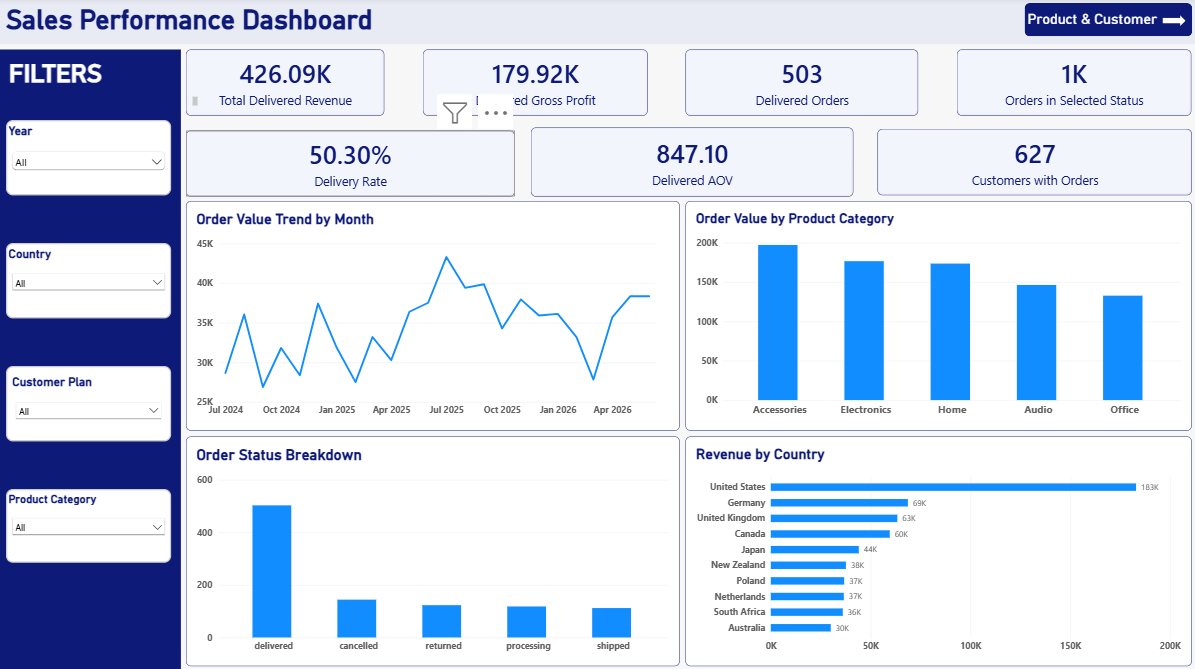

Layout of this report page (visuals, bound fields, positions):
{"tool":"powerbi","page":{"name":"Sales Overview","canvas":[1920,1080],"ordinal":0},"visuals":[{"type":"shape","box":[0,0,1920,75],"z":0},{"type":"cardVisual","fields":{"Data":["orders.Delivered Revenue"]},"box":[300,82.5,315,105],"z":1000},{"type":"cardVisual","fields":{"Data":["orders.Delivered Profit"]},"box":[676.7,82.5,357.5,105],"z":2000},{"type":"cardVisual","fields":{"Data":["orders.Total orders"]},"box":[1527.5,82.5,372.5,105],"z":3000},{"type":"cardVisual","fields":{"Data":["orders.Delivery Rate"]},"box":[300,212.5,522.5,105],"z":4000},{"type":"cardVisual","fields":{"Data":["orders.Delivered AOV"]},"box":[850,207.5,512.5,110],"z":5000},{"type":"cardVisual","fields":{"Data":["orders.Customers with Orders"]},"box":[1400,210,500,105],"z":6000},{"type":"lineChart","title":"Order Value Trend by Month","fields":{"Category":["orders.Order Month.Variation.Date Hierarchy.Year","orders.Order Month.Variation.Date Hierarchy.Month","orders.Order Month.Variation.Date Hierarchy.Day"],"Y":["orders.Total revenue"]},"box":[300,325,785,365],"z":7000},{"type":"clusteredBarChart","title":"Revenue by Country","fields":{"Category":["customers.country"],"Y":["orders.Total revenue"]},"box":[1095.1,699.1,805,365],"z":8000},{"type":"clusteredColumnChart","title":"Order Value by Product Category","fields":{"Category":["products.category"],"Y":["orders.Total revenue"]},"box":[1095,325,805,365],"z":9000},{"type":"clusteredColumnChart","title":"Order Status Breakdown","fields":{"Category":["orders.status"],"Y":["orders.Total orders"]},"box":[300,700,785,365],"z":10000},{"type":"textbox","title":"Sales Performance Dashboard","box":[15,10,742.5,65],"z":11000},{"type":"shape","box":[0,82.5,292.5,997.5],"z":12000},{"type":"slicer","title":"Customer Plan","fields":{"Values":["customers.plan"]},"box":[15,586.7,262.5,120],"z":13000},{"type":"slicer","title":"Product Category","fields":{"Values":["products.category"]},"box":[15,782.5,262.5,117.5],"z":14000},{"type":"slicer","title":"Country","fields":{"Values":["customers.country"]},"box":[15,390.8,262.5,120],"z":15000},{"type":"cardVisual","fields":{"Data":["orders.Delivered Orders"]},"box":[1095.8,82.5,370,105],"z":16000},{"type":"slicer","title":"Year","fields":{"Values":["customers.signup_date.Variation.Date Hierarchy.Year"]},"box":[15,195,262.5,120],"z":17000},{"type":"textbox","title":"FILTERS","box":[20,97.5,300,75],"z":18000},{"type":"group","id":"g1","title":"Group 1","box":[1635,10,267,53],"z":19000},{"type":"actionButton","box":[1635,10,266.9,53.1],"z":19500,"group":"g1"},{"type":"shape","box":[1854,29,37,18],"z":20000},{"type":"textbox","title":"Product & Customer ","box":[1640.7,23.1,220.9,35.5],"z":20001,"group":"g1"}]}

Visuals, with their boxes in screenshot pixels (x1, y1, x2, y2), scaled from the page's 1920x1080 canvas onto the 1195x669 screenshot:
shape: x1=0, y1=0, x2=1194, y2=46
cardVisual - orders.Delivered Revenue: x1=187, y1=51, x2=383, y2=116
cardVisual - orders.Delivered Profit: x1=421, y1=51, x2=644, y2=116
cardVisual - orders.Total orders: x1=951, y1=51, x2=1183, y2=116
cardVisual - orders.Delivery Rate: x1=187, y1=132, x2=512, y2=197
cardVisual - orders.Delivered AOV: x1=529, y1=129, x2=848, y2=197
cardVisual - orders.Customers with Orders: x1=871, y1=130, x2=1183, y2=195
"Order Value Trend by Month" lineChart: x1=187, y1=201, x2=675, y2=427
"Revenue by Country" clusteredBarChart: x1=682, y1=433, x2=1183, y2=659
"Order Value by Product Category" clusteredColumnChart: x1=682, y1=201, x2=1183, y2=427
"Order Status Breakdown" clusteredColumnChart: x1=187, y1=434, x2=675, y2=660
"Sales Performance Dashboard" textbox: x1=9, y1=6, x2=471, y2=46
shape: x1=0, y1=51, x2=182, y2=668
"Customer Plan" slicer: x1=9, y1=363, x2=173, y2=438
"Product Category" slicer: x1=9, y1=485, x2=173, y2=558
"Country" slicer: x1=9, y1=242, x2=173, y2=316
cardVisual - orders.Delivered Orders: x1=682, y1=51, x2=912, y2=116
"Year" slicer: x1=9, y1=121, x2=173, y2=195
"FILTERS" textbox: x1=12, y1=60, x2=199, y2=107
"Group 1" group: x1=1018, y1=6, x2=1184, y2=39
actionButton: x1=1018, y1=6, x2=1184, y2=39
shape: x1=1154, y1=18, x2=1177, y2=29
"Product & Customer " textbox: x1=1021, y1=14, x2=1159, y2=36
